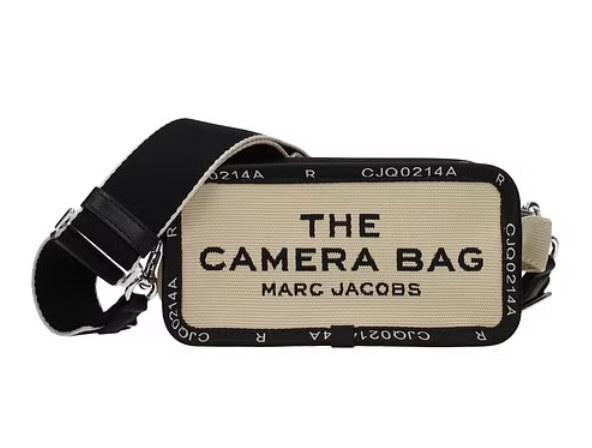MARC-JACOBS: (262, 282, 422, 297)
